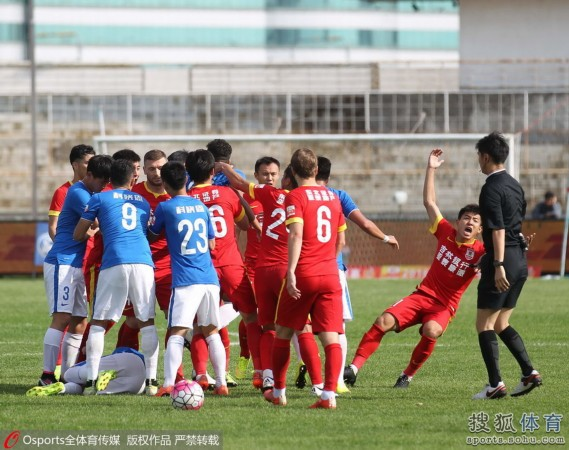10+: (19, 117, 564, 426)
down: (22, 339, 151, 412)
